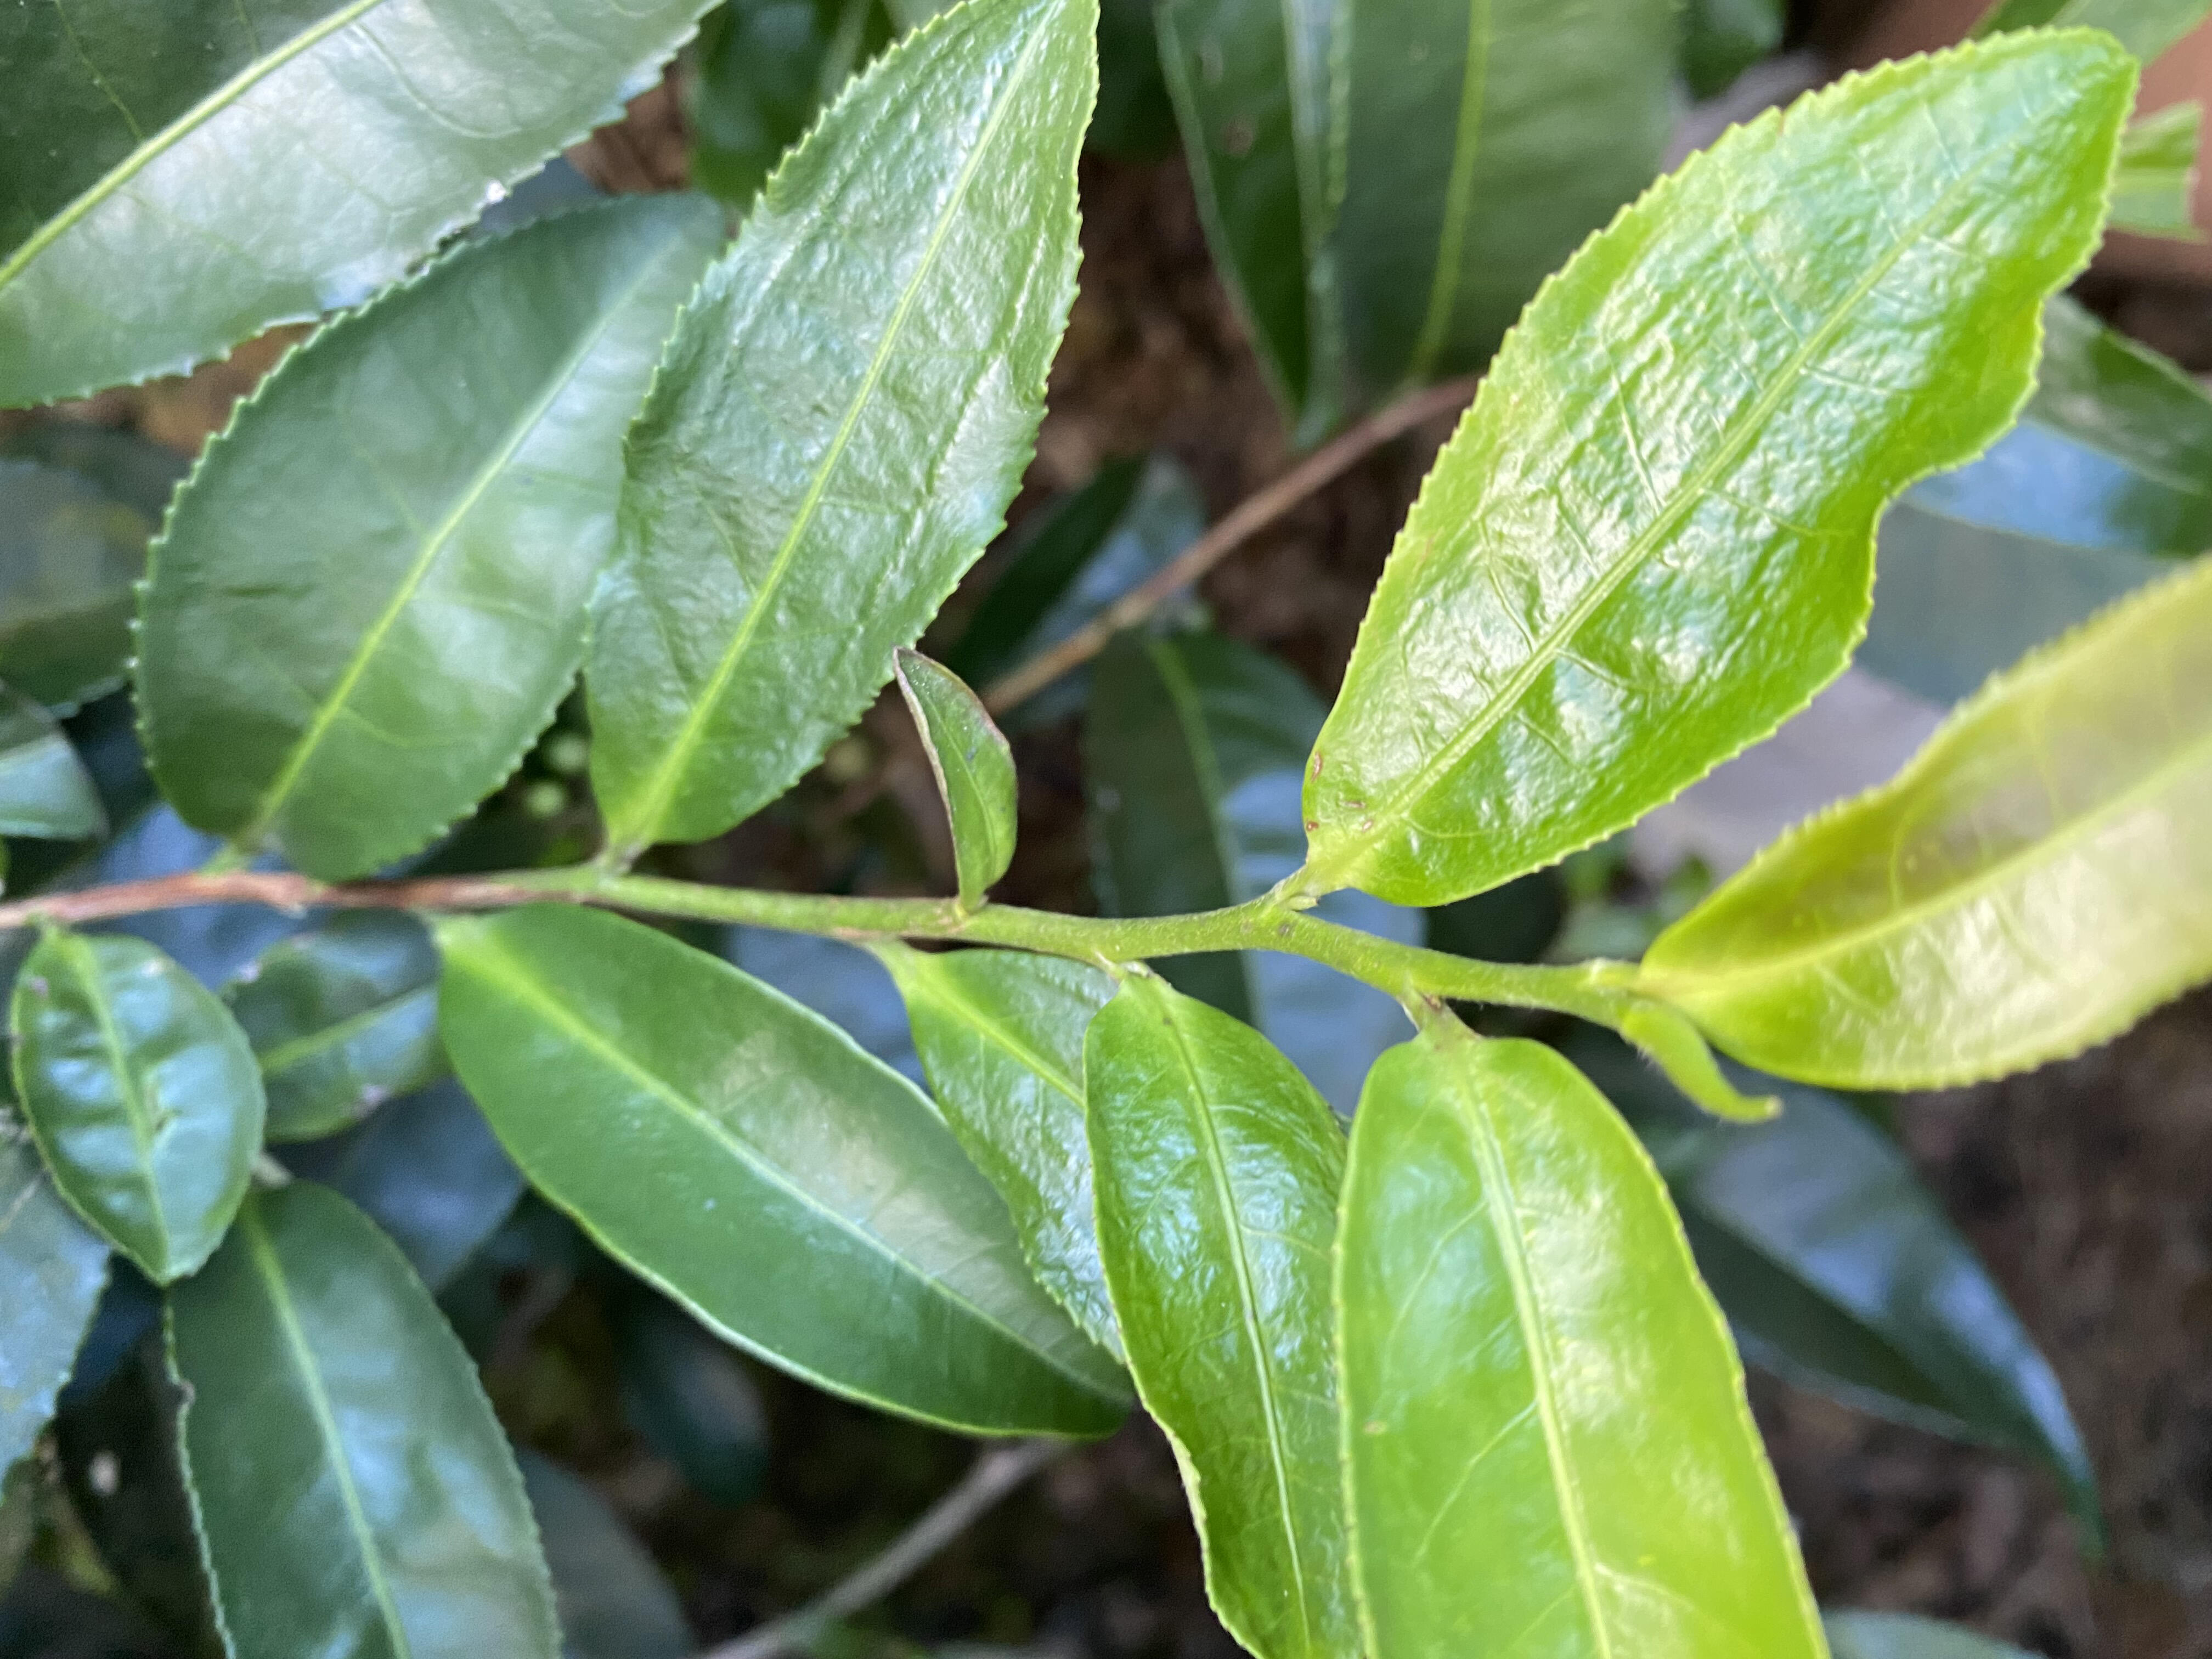healthy: (1296, 24, 2144, 920), (127, 190, 730, 889), (1332, 1030, 1834, 1656)
tanju_low: (1641, 551, 2210, 1100), (890, 645, 1021, 908)
